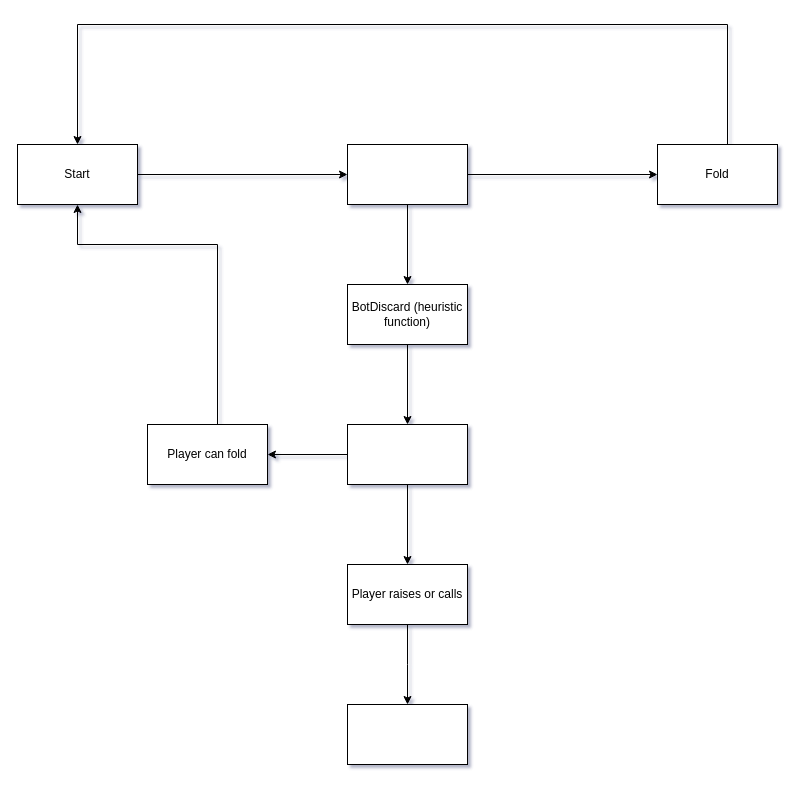
The diagram is 801 pixels wide and 788 high, and some of its shapes have lost their labels. The shapes that lost their labels are listed below. From the top down, each one's centre as x and y in pixels, then its label:
At (x=407, y=174): "Discard".
At (x=407, y=454): "Bot bets".
At (x=407, y=734): "FinalizeRound()".
